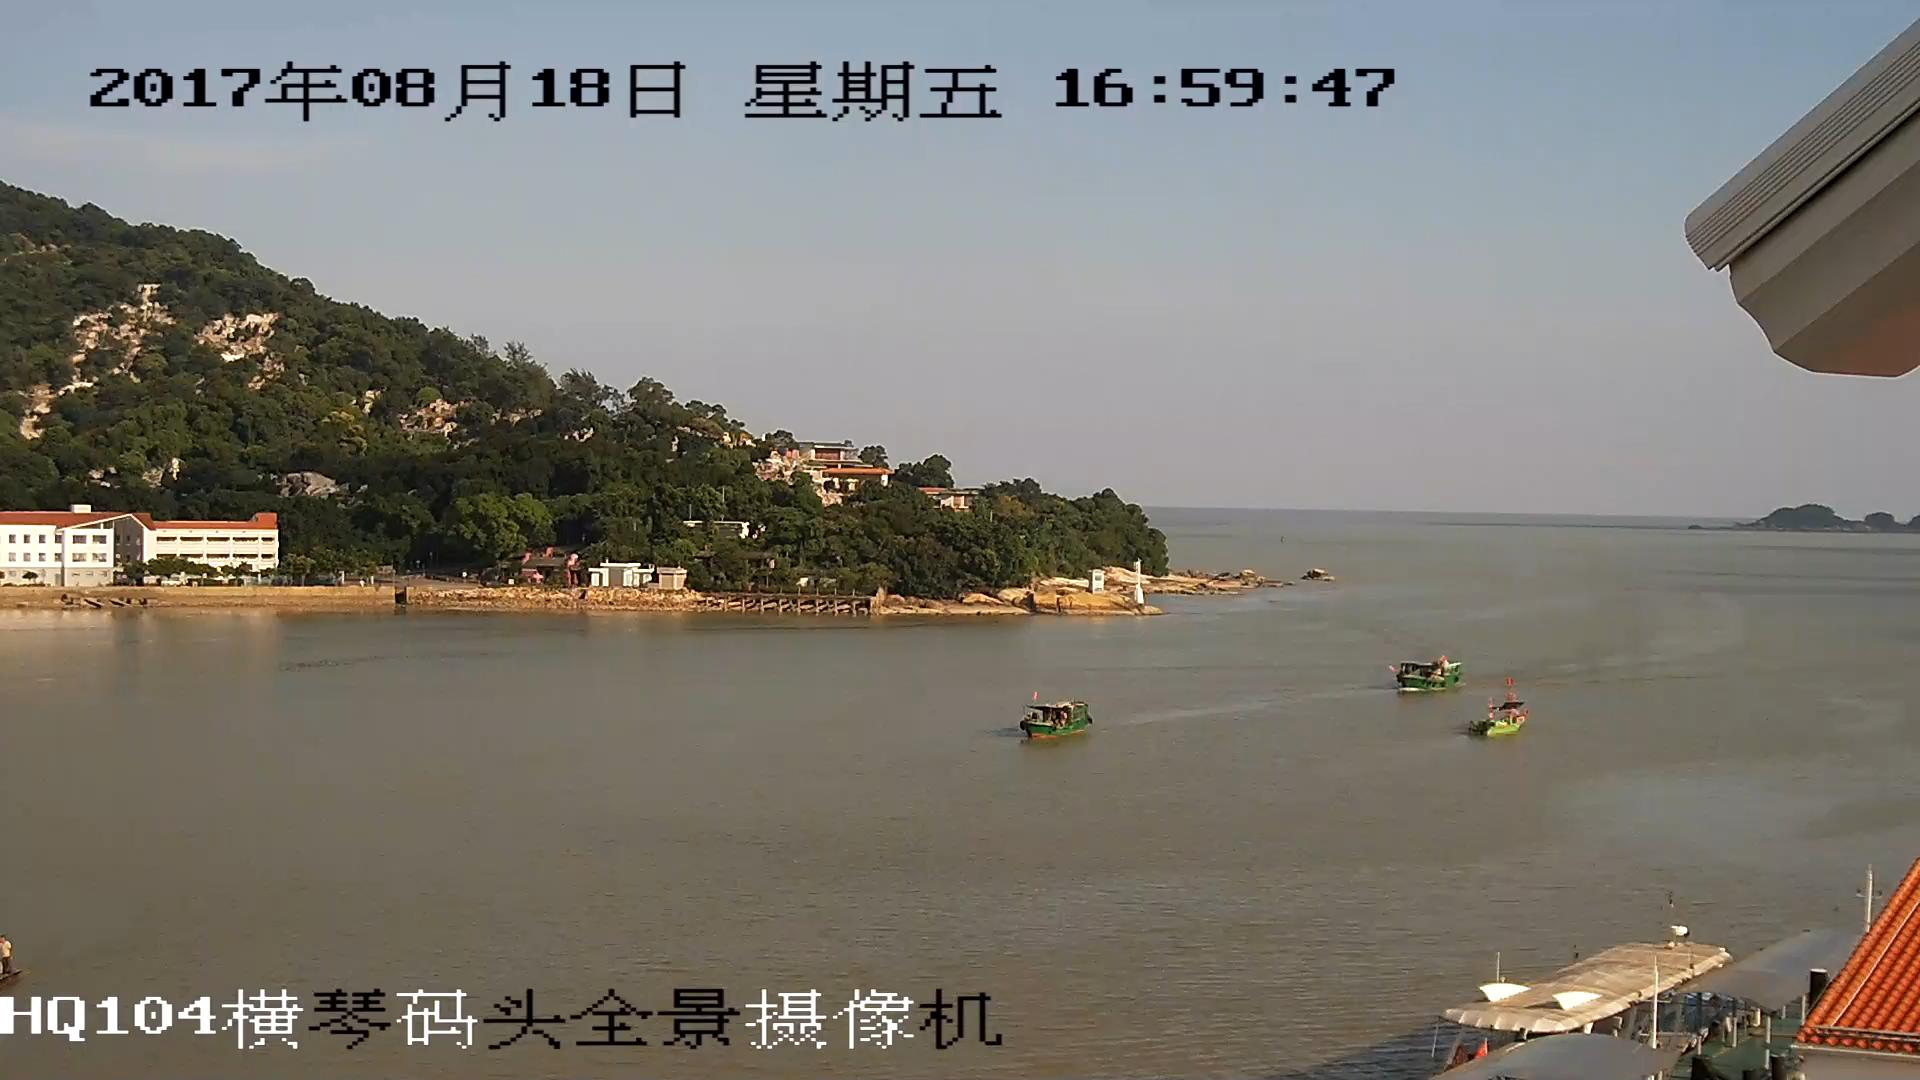fishing boat: (1016, 697, 1098, 736), (1397, 652, 1455, 690), (1473, 702, 1523, 731)
